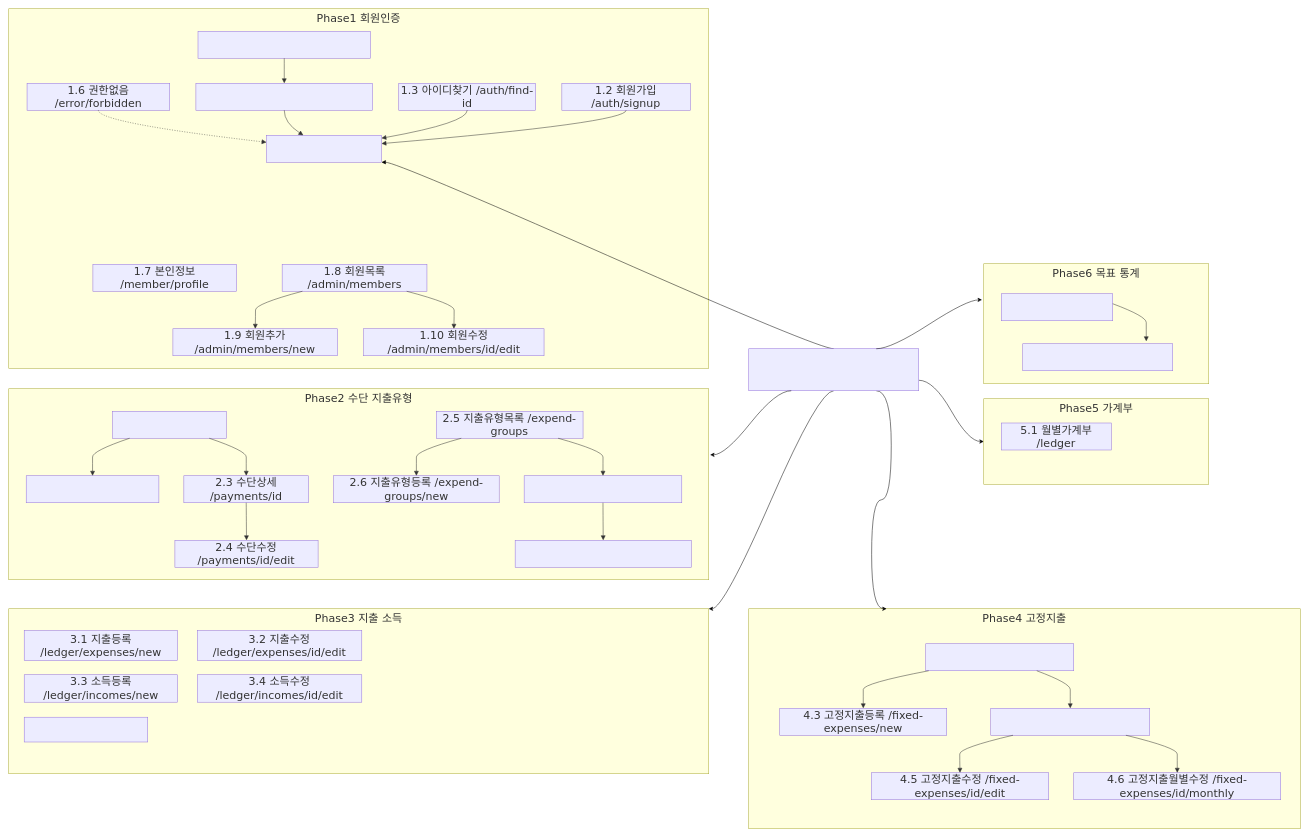
Image size: 1309x838. Some labels were removed from this diagram. The centre of each missing label's shape, as x and y in pixels:
"1.1 로그인 /auth/login" belongs at point 324,148.
"1.4 비밀번호찾기 /auth/find-password" belongs at point 284,44.
"1.5 비밀번호변경 /auth/reset-password" belongs at point 284,96.
"2.1 수단목록 /payments" belongs at point 169,424.
"2.2 수단등록 /payments/new" belongs at point 92,489.
"2.7 지출유형상세 /expend-groups/id" belongs at point 603,489.
"2.8 지출유형수정 /expend-groups/id/edit" belongs at point 603,553.
"3.5 엑셀등록 /ledger/excel" belongs at point 86,729.
"4.2 고정지출목록 /fixed-expenses" belongs at point 999,657.
"4.4 고정지출상세 /fixed-expenses/id" belongs at point 1070,721.
"6.1 기본목표금액 /targets/default" belongs at point 1097,357.
"6.2 월별통계 /statistics" belongs at point 1057,307.
"루트 redirect 월별가계부 (로그인 안되어있다면 로그인페이지)" belongs at point 833,369.
